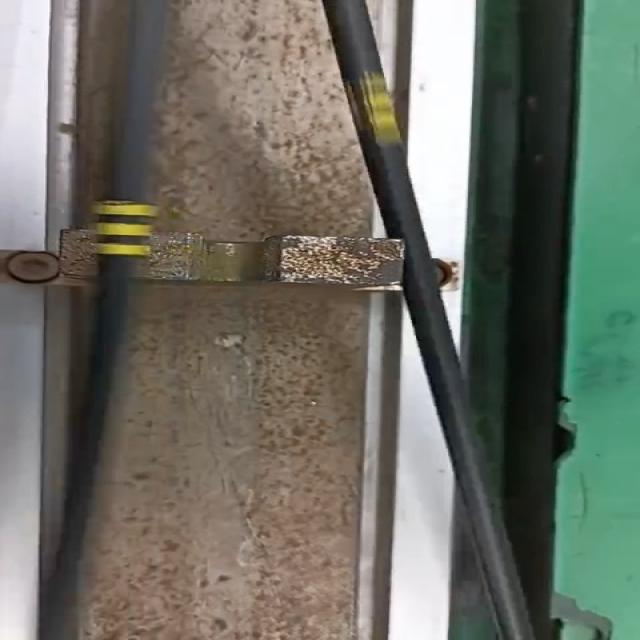yellow: (96, 202, 146, 259)
